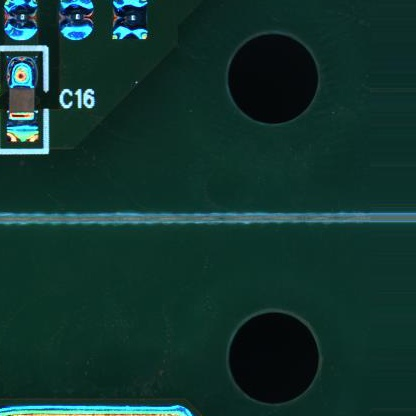spot: (112, 1, 151, 44), (58, 1, 97, 43), (3, 1, 40, 42)
